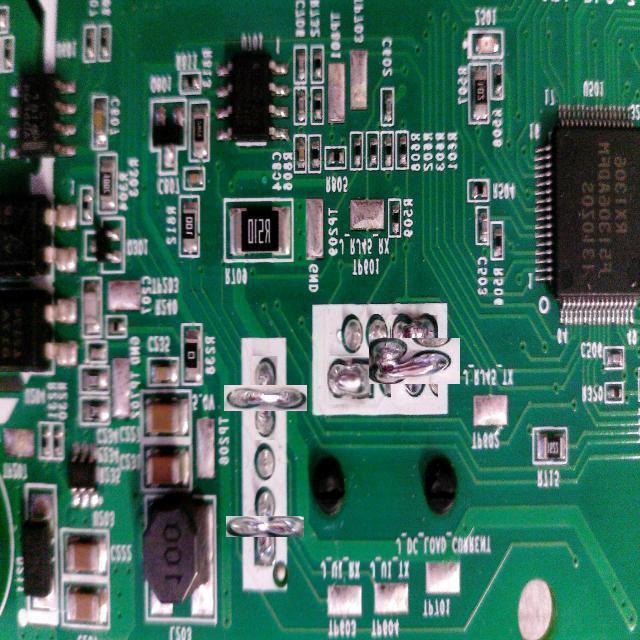Short_circuit: (380, 326, 449, 395), (238, 370, 293, 426), (240, 501, 290, 551), (326, 356, 376, 404)
